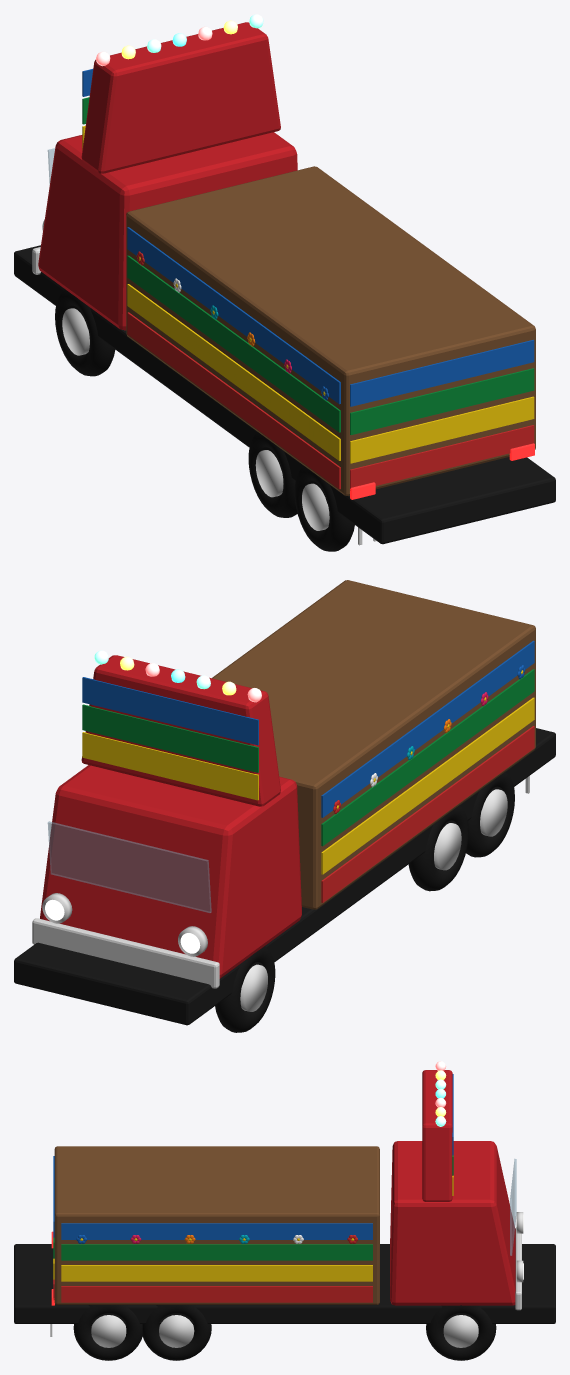
The model's file is truck.glb.
3 views of the same model, one above another, from view 1: azimuth 30°, elevation 25°; view 2: azimuth 150°, elevation 25°; view 3: azimuth 270°, elevation 25° (orthographic). The views are drawn at different scales.
Visible parts, largest first — view 1: Cube.001, Cube.017, Cube.014, Cube, Cube.002, Cube.003, Cube.004, Cube.005, Cube.012, Cube.013, Cube.011, Cube.010 (+6 smaller); view 2: Cube.001, Cube.014, Cube, Cube.015, Cube.017, Cube.003, Cube.002, Cube.004, Cube.005, Cube.016, Cube.018, Cube.020 (+7 smaller); view 3: Cube.001, Cube.014, Cube, Cube.006, Cube.007, Cube.008, Cube.009, Cube.017, Torus.003, Torus.005, Torus.004, Cylinder.007 (+4 smaller).
Boxes of the visible parts, <box> form: Cube.001: <box>126,166,535,495</box>; Cube.017: <box>81,22,280,173</box>; Cube.014: <box>38,132,297,330</box>; Cube: <box>14,245,555,544</box>; Cube.002: <box>127,312,340,489</box>; Cube.003: <box>127,284,340,460</box>; Cube.004: <box>127,255,340,432</box>; Cube.005: <box>127,227,340,404</box>; Cube.012: <box>350,368,534,434</box>; Cube.013: <box>350,339,534,406</box>; Cube.011: <box>350,396,534,463</box>; Cube.010: <box>350,425,534,490</box>; Cube.001: <box>212,580,535,909</box>; Cube.014: <box>40,765,301,978</box>; Cube: <box>14,728,555,1025</box>; Cube.015: <box>47,821,211,912</box>; Cube.017: <box>81,655,280,806</box>; Cube.003: <box>321,697,534,874</box>; Cube.002: <box>321,726,534,902</box>; Cube.004: <box>321,669,534,846</box>; Cube.005: <box>321,640,534,817</box>; Cube.016: <box>32,918,219,988</box>; Cube.018: <box>82,732,258,800</box>; Cube.020: <box>82,677,258,745</box>; Cube.001: <box>54,1146,379,1304</box>; Cube.014: <box>390,1141,515,1305</box>; Cube: <box>14,1244,555,1323</box>; Cube.006: <box>61,1286,372,1302</box>; Cube.007: <box>61,1265,372,1281</box>; Cube.008: <box>61,1244,372,1260</box>; Cube.009: <box>61,1223,372,1239</box>; Cube.017: <box>422,1070,452,1201</box>; Torus.003: <box>426,1305,496,1360</box>; Torus.005: <box>73,1305,142,1360</box>; Torus.004: <box>142,1305,211,1360</box>; Cylinder.007: <box>443,1315,478,1347</box>.
Size of the model in its own units: 2.49 by 3.95 by 8.
